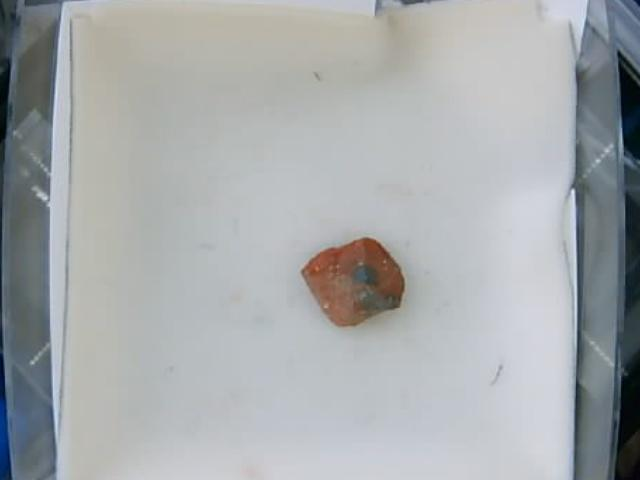Brisk: (300, 233, 407, 326)
